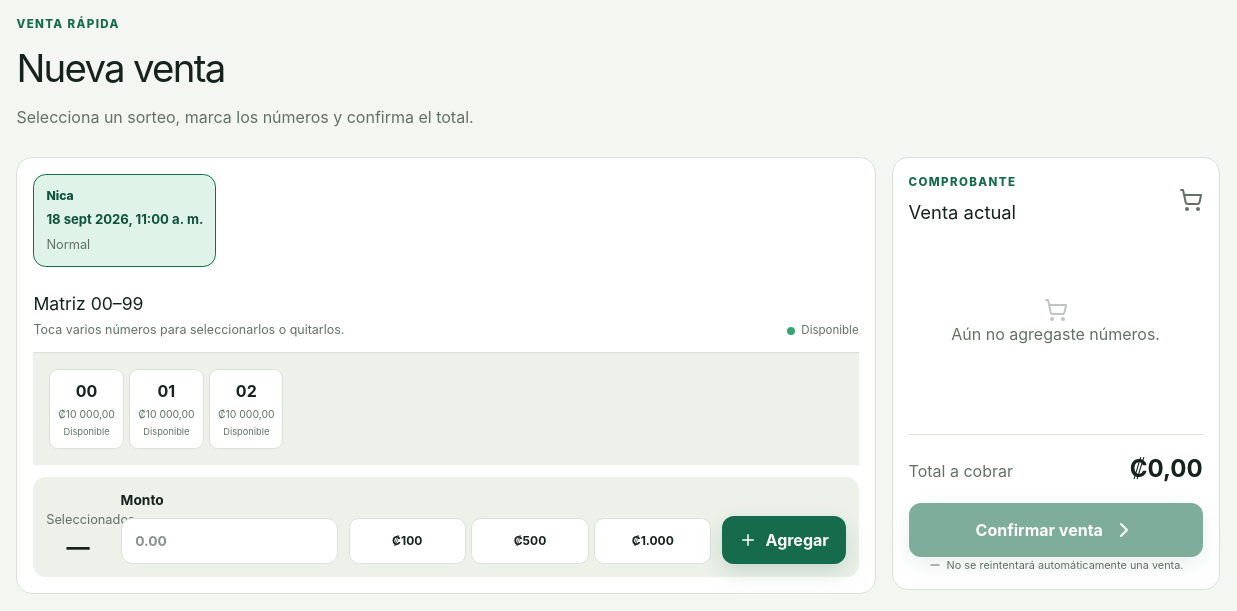
Test: venta con selección múltiple › marca varios números y agrega el mismo monto a cada uno
Click the button with aria-label "Número". click: (87, 409)
box: [49,369,124,448]
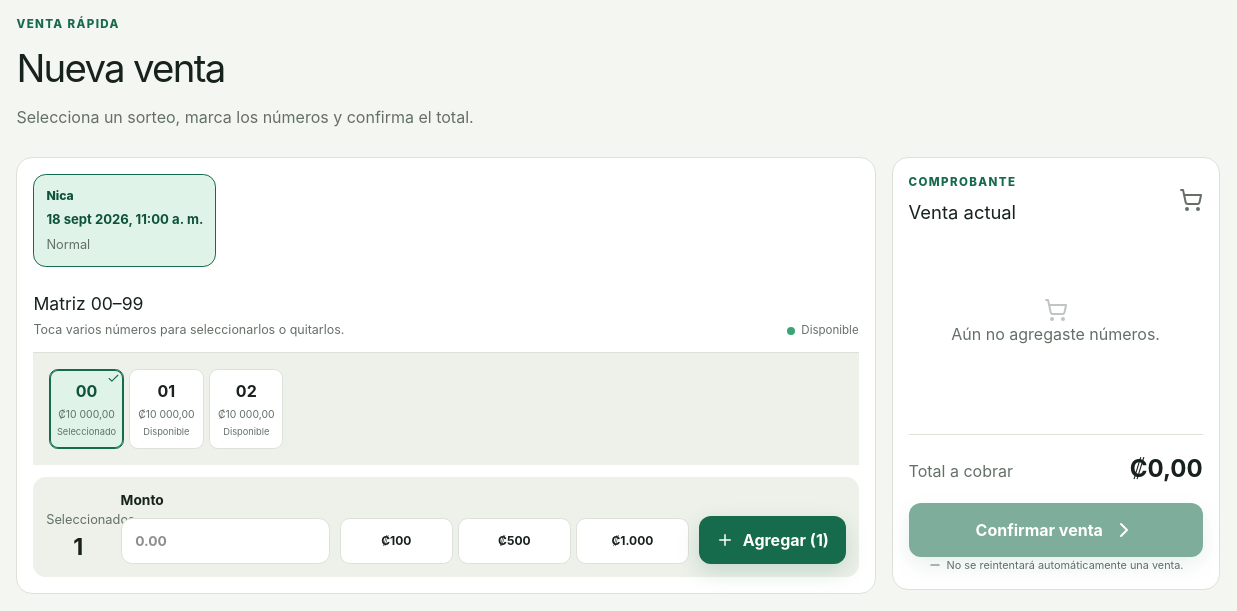
Click the button with aria-label "Número". click: (166, 409)
box: [129,369,204,448]
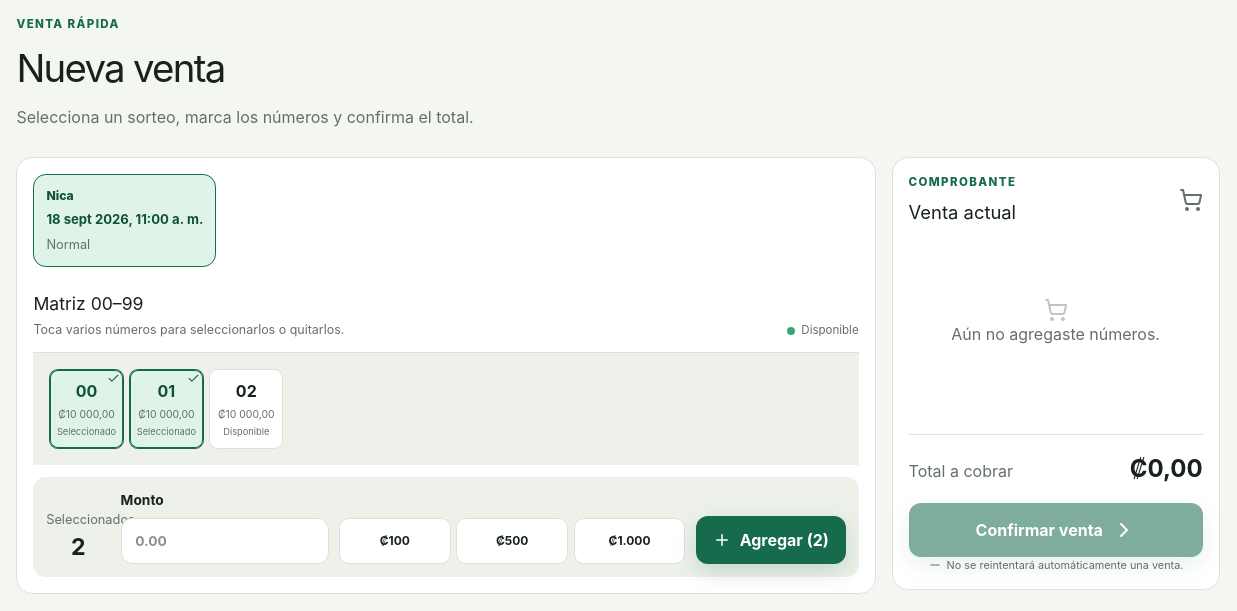
Result: the button "Agregar (2)" is shown at [696,516,846,564]
Type "100.00" into the field labelled "Monto". click: (225, 541)
box: [121,518,328,564]
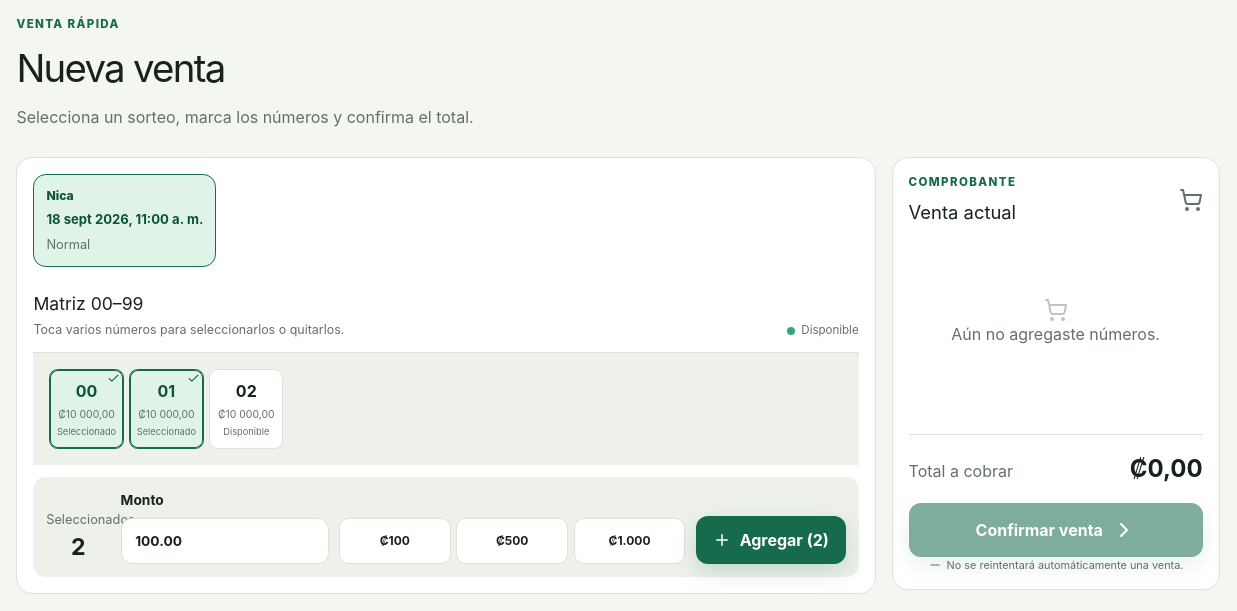
Click the button "Agregar (2)". click: (771, 540)
box: [696,516,846,564]
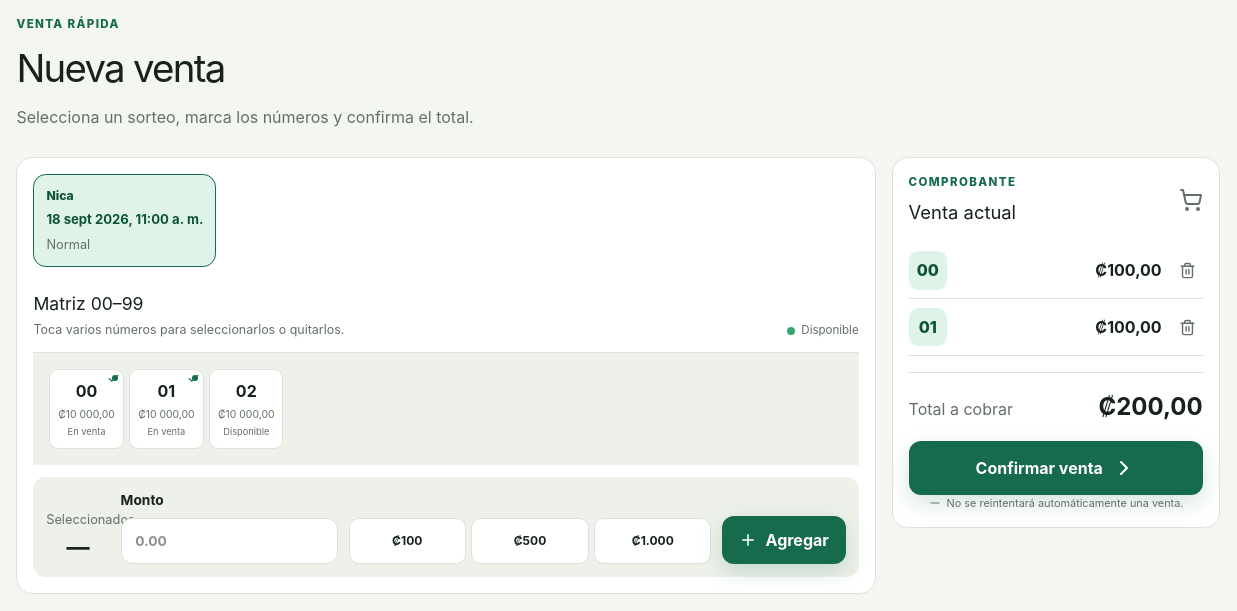
Result: the button named "Quitar número 00" is shown at [1173,255,1203,285]
Result: the button named "Quitar número 01" is shown at [1173,312,1203,342]
